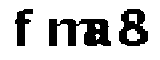8: (119, 3, 150, 49)
a: (87, 18, 115, 52)
f: (11, 5, 34, 48)
m: (46, 15, 98, 49)
